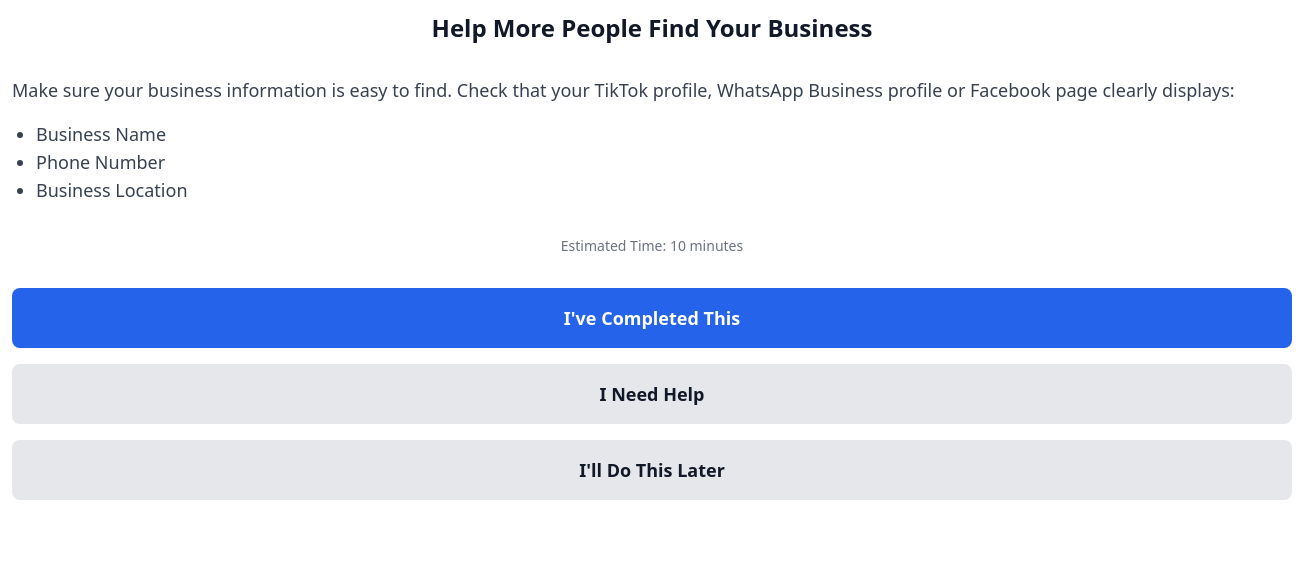
DailyRecommendation › shows the correct help content for Get More Customers
The width and height of the screenshot is (1304, 565).
Step 1. Click the button "I Need Help" → (652, 394), box [12,364,1292,424]
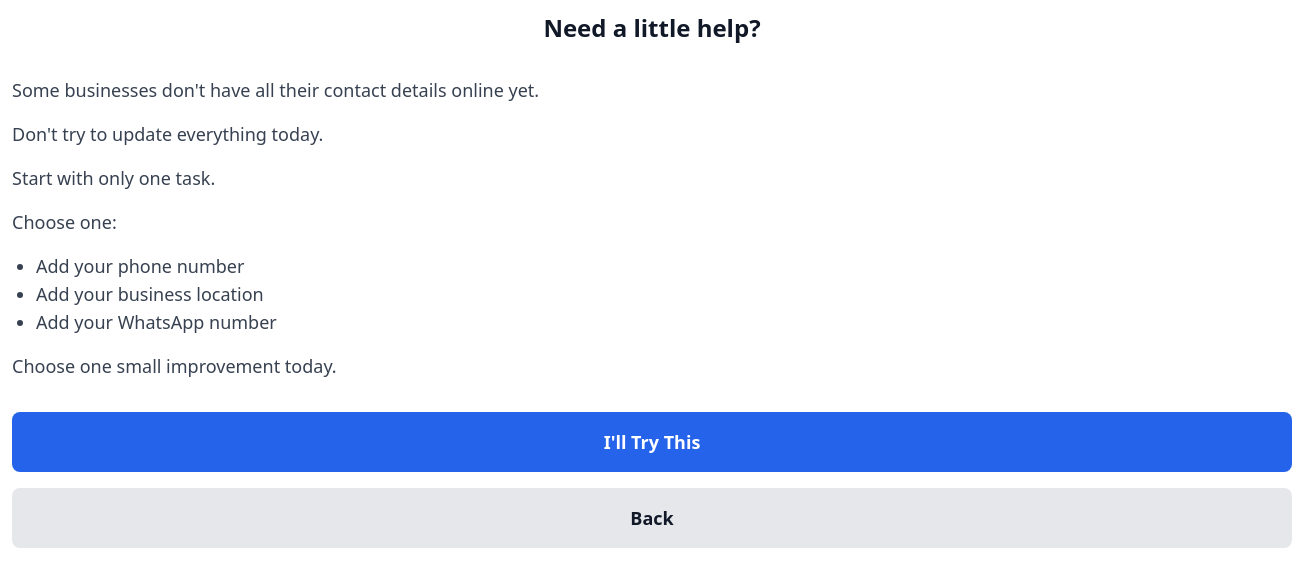
Now the text "Choose one small improvement today." is shown, box [12,354,337,378]
